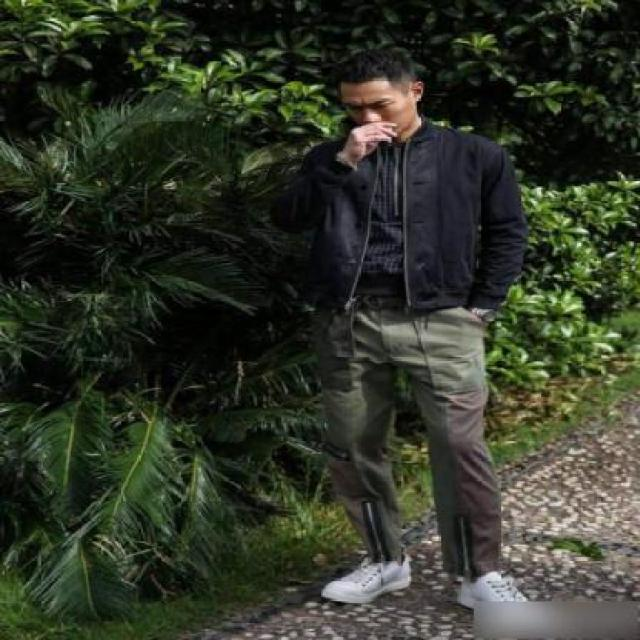Person: (258, 45, 568, 624)
